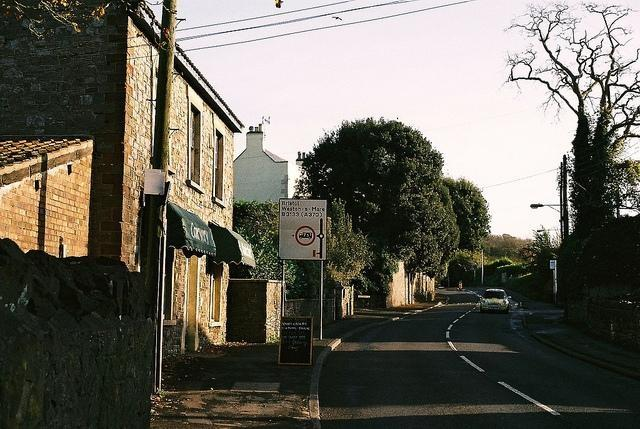car: (481, 288, 512, 315)
